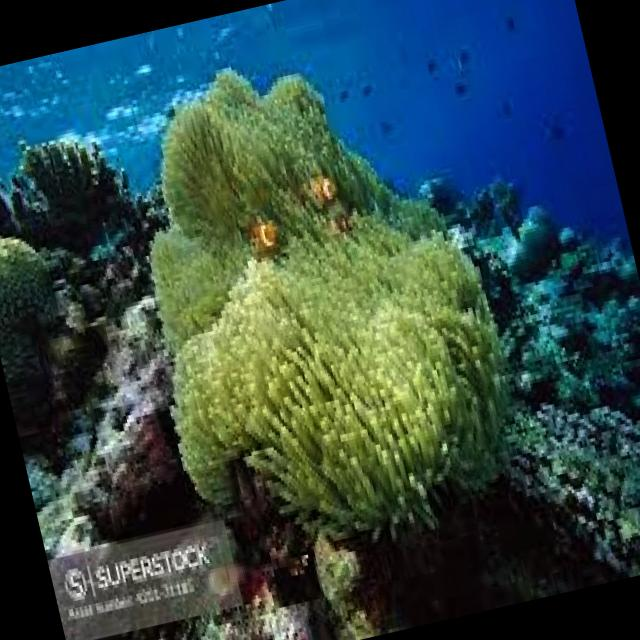ClownFish: (240, 206, 288, 268), (303, 156, 344, 216)
